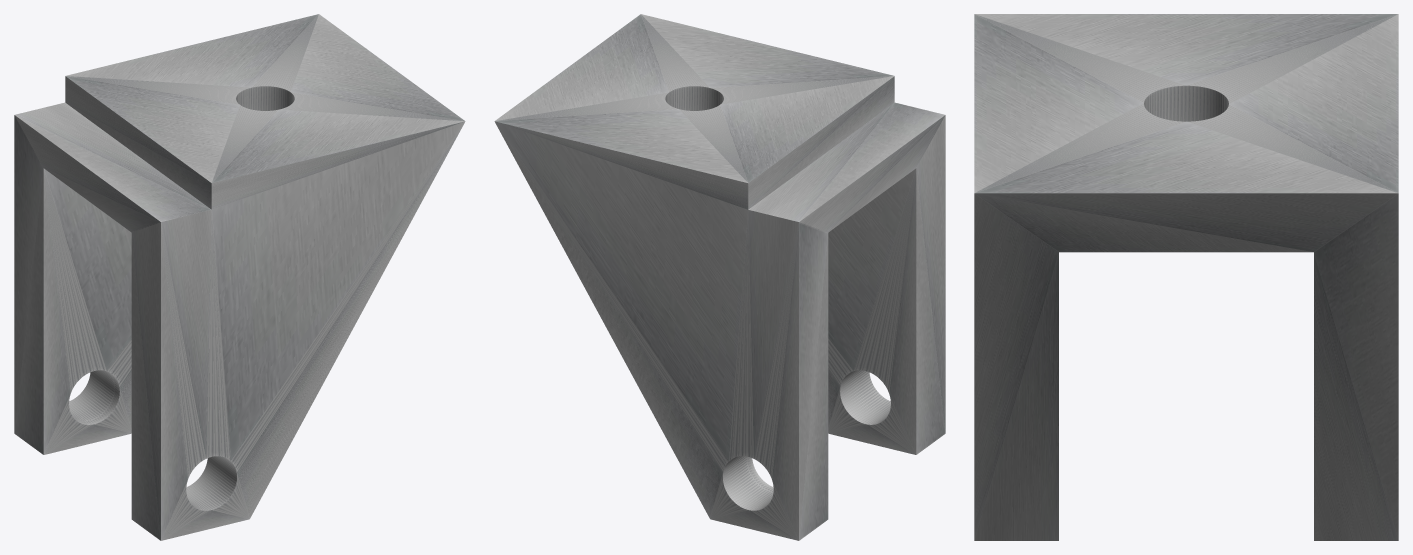
Rendered from corps_roue_av.dae.
3 views of the same model, side by side, from view 1: azimuth 30°, elevation 25°; view 2: azimuth 150°, elevation 25°; view 3: azimuth 270°, elevation 25° (orthographic). The views are drawn at different scales.
Visible parts, largest first — view 1: corps_roue_avV2; view 2: corps_roue_avV2; view 3: corps_roue_avV2.
Part boxes in pixels (x1,y1,x2,y2): corps_roue_avV2: [14, 14, 465, 540]; corps_roue_avV2: [494, 14, 945, 540]; corps_roue_avV2: [974, 14, 1398, 540].
Size of the model in its own units: 0.12 by 0.1 by 0.13.
Materials: 1 (1 with a texture image).
